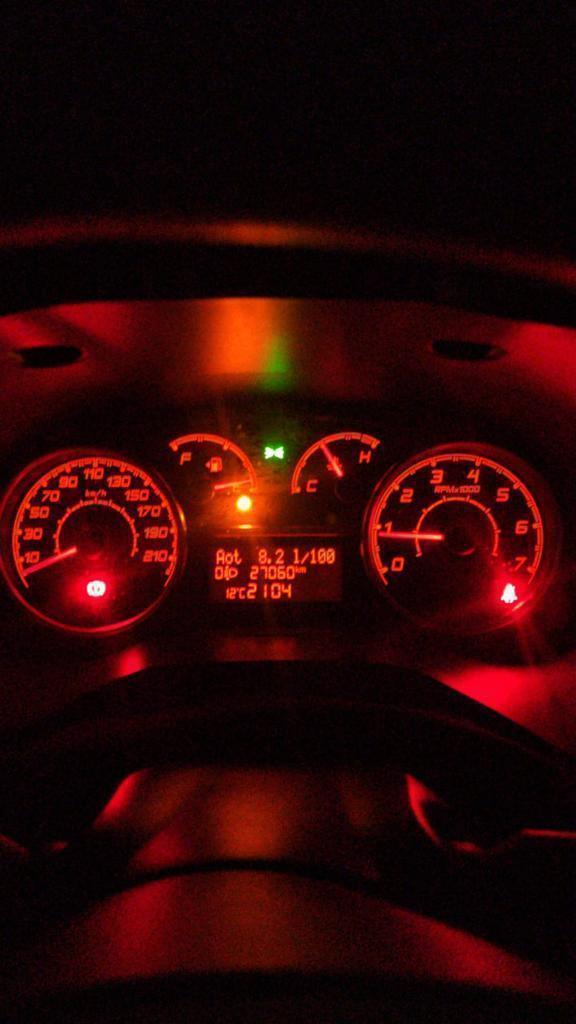,: (267, 556, 272, 564)
0: (270, 581, 281, 599), (213, 565, 224, 580), (317, 547, 326, 564), (326, 547, 335, 564), (267, 565, 277, 579), (285, 565, 294, 579)
1: (260, 582, 269, 599), (310, 547, 317, 565), (223, 587, 229, 600)
2: (246, 582, 258, 600), (274, 547, 285, 564), (249, 564, 258, 580), (229, 586, 236, 599)
4: (281, 582, 292, 599)
6: (277, 565, 285, 580)
7: (258, 565, 267, 580)
8: (257, 548, 267, 564)
X: (232, 547, 242, 565), (291, 546, 301, 564), (215, 547, 224, 565), (300, 550, 309, 564), (238, 586, 246, 600), (225, 552, 233, 564), (300, 565, 306, 574), (294, 565, 299, 573)
odometer: (198, 535, 347, 604)
